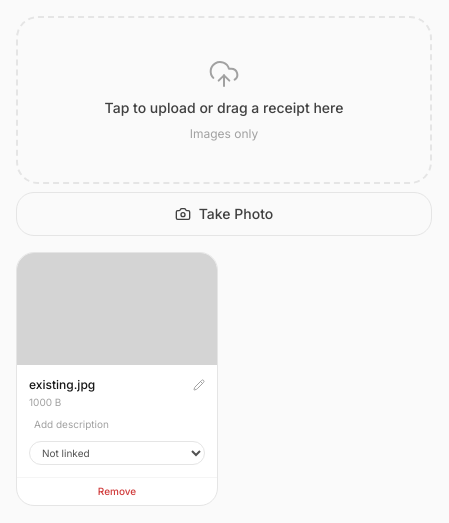
ReceiptsPage › removes a receipt via the repository when Remove is clicked
Expected: the element with test id "receipt-card" is shown, x1=16 y1=252 x2=218 y2=506
Step 1. Click the button with test id "receipt-remove-button" → (117, 491), box x1=17 y1=477 x2=217 y2=505
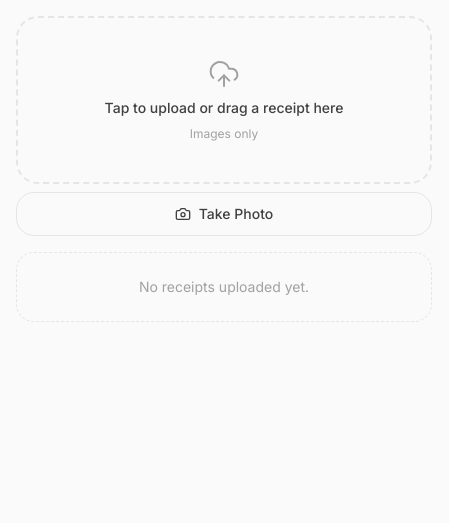
Now the text "No receipts uploaded yet." is shown, box x1=16 y1=252 x2=432 y2=322
